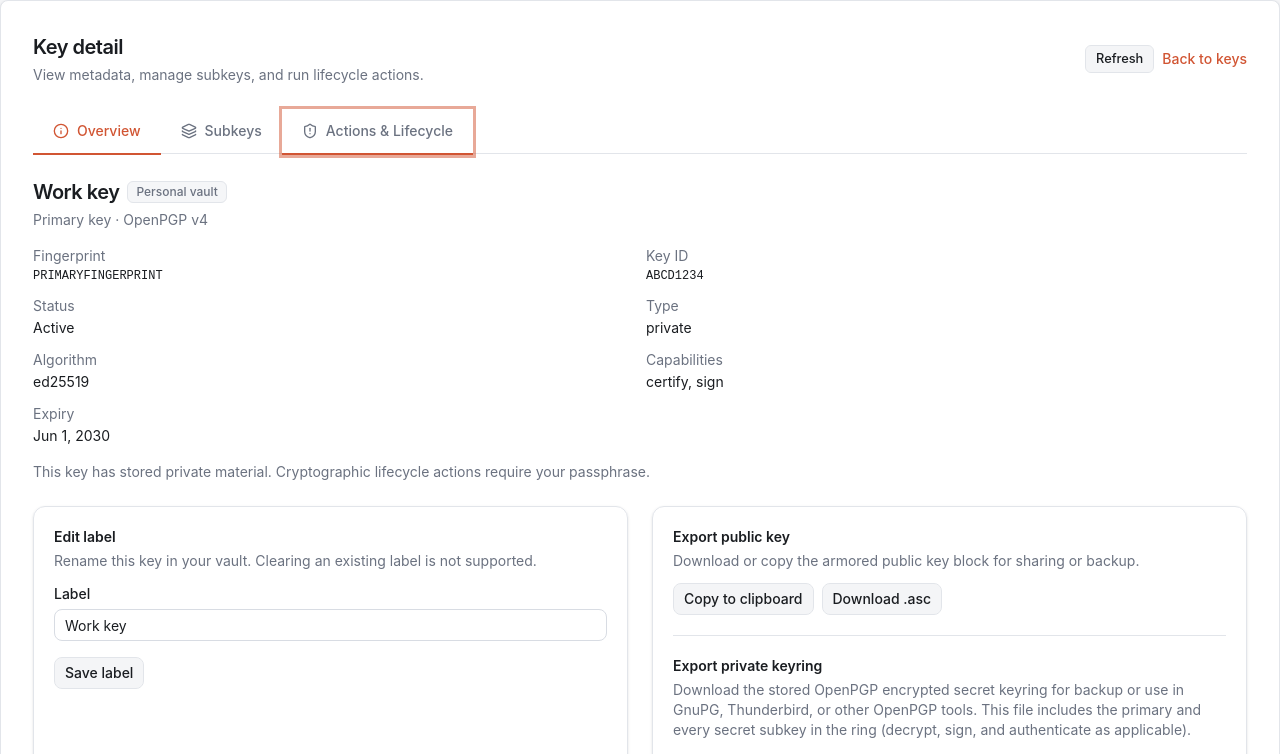
it: KeyDetailPage › activates overview tab with Home key from actions tab
Expected: the heading "Work key" is shown, 33,178 -> 119,206
Click the tab "Actions & Lifecycle" at (377, 132), box 282,109 -> 473,155
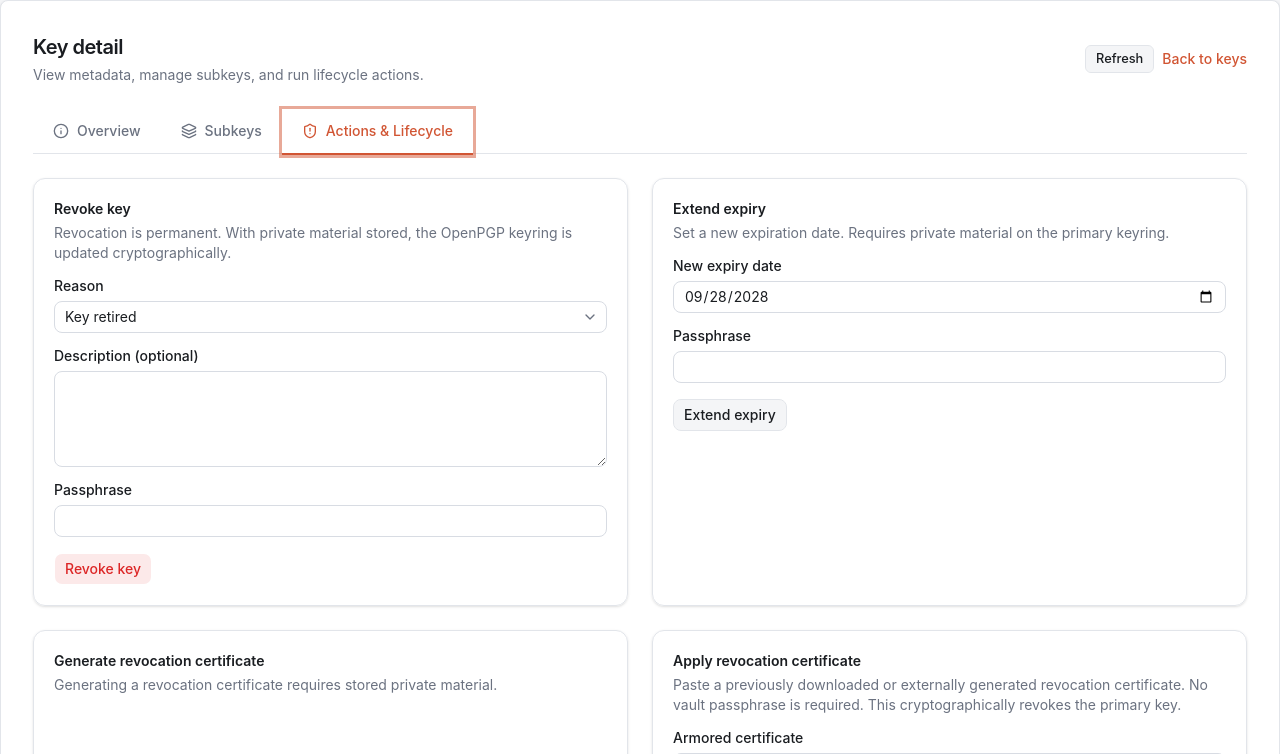
Press Home
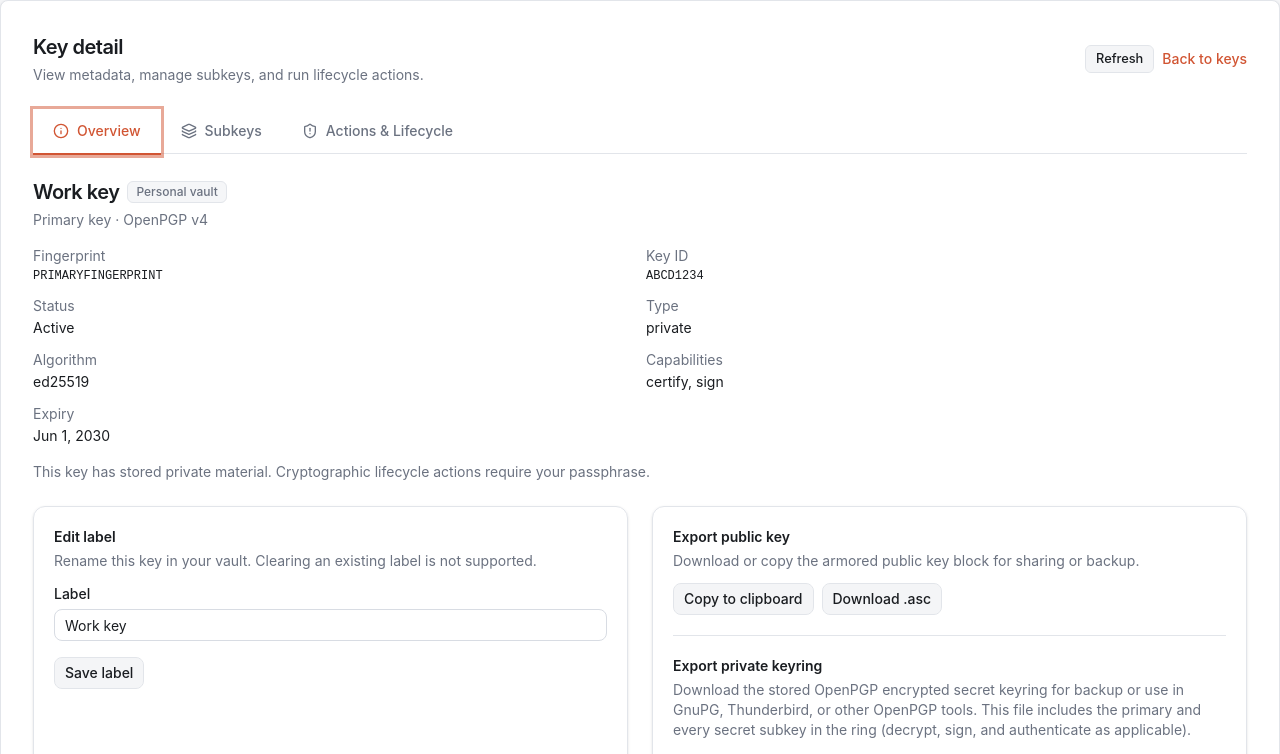
Expected: the element named "Key summary" is shown, 33,180 -> 724,480
